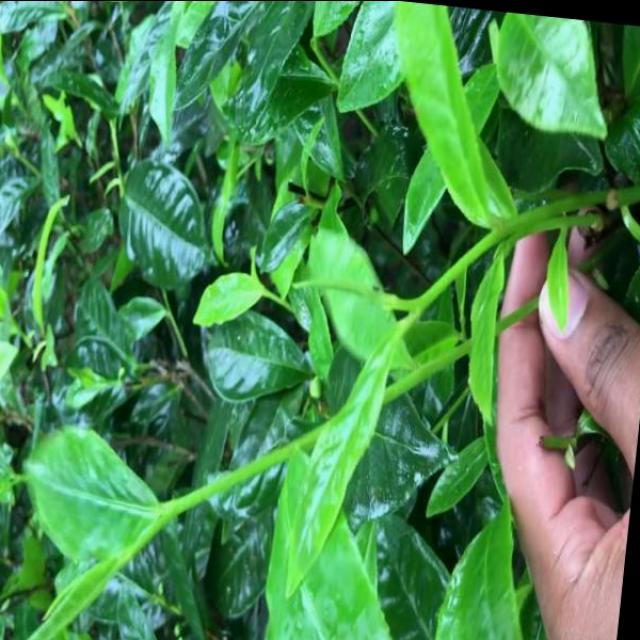Stem: (161, 502, 179, 517), (410, 300, 422, 312), (264, 289, 269, 295)
